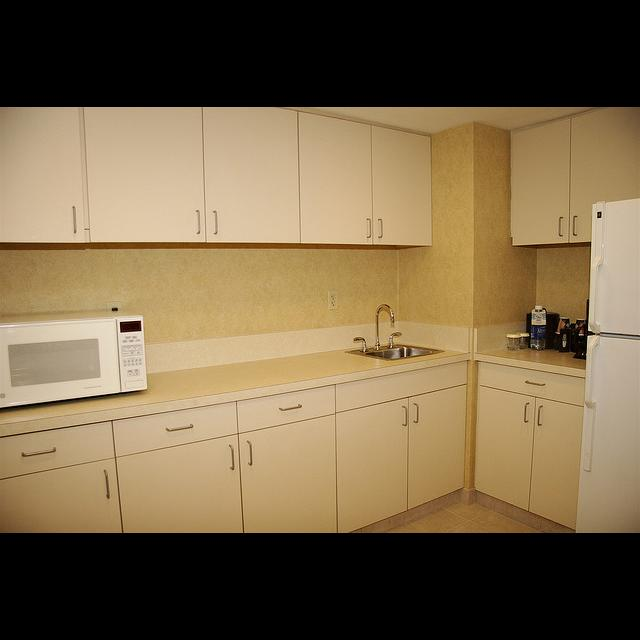Microwave: (0, 310, 151, 409)
Refrigerator: (572, 200, 640, 528)
